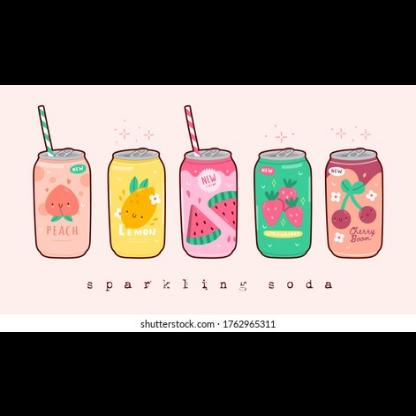Lid_Open: (264, 137, 296, 161), (190, 139, 224, 161), (336, 144, 372, 162), (46, 144, 74, 160), (124, 145, 148, 159)
Tin_Can: (318, 140, 392, 262), (108, 140, 172, 266), (252, 133, 312, 267), (30, 146, 96, 266), (181, 138, 240, 272)
